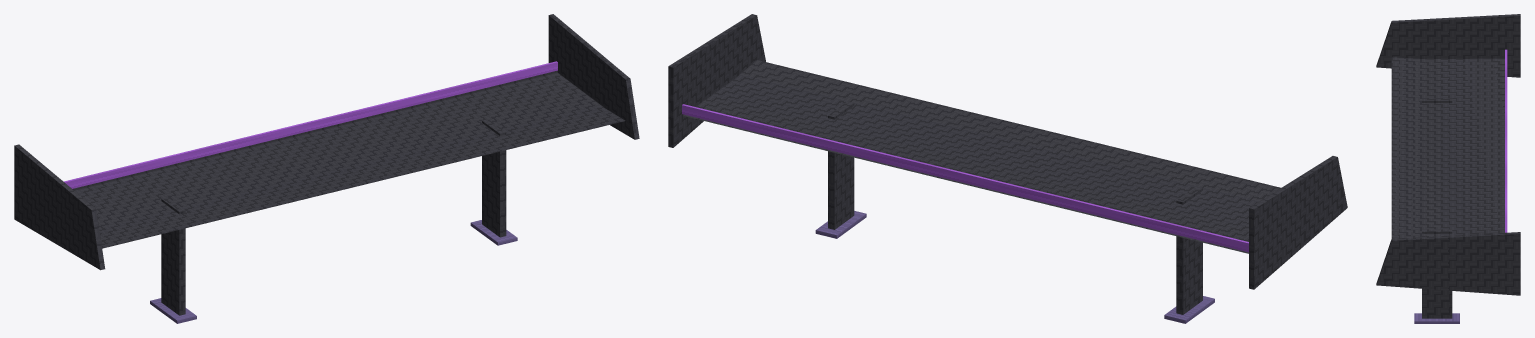
Rendered from aerofolio_n5.glb.
3 renders of one model, left to right at view 1: azimuth 30°, elevation 25°; view 2: azimuth 150°, elevation 25°; view 3: azimuth 270°, elevation 25°, orthographic. The views are drawn at different scales.
Parts seen in each view (by area): view 1: aerofolio_n5; view 2: aerofolio_n5; view 3: aerofolio_n5.
Boxes of the visible parts, x1,y1,x2,y2 form: aerofolio_n5: [14, 14, 639, 323]; aerofolio_n5: [668, 14, 1347, 323]; aerofolio_n5: [1376, 14, 1520, 323].
Bounding box in the file's own units: 1.37 × 0.38 × 0.38.
Materials: 2 (2 with a texture image).
